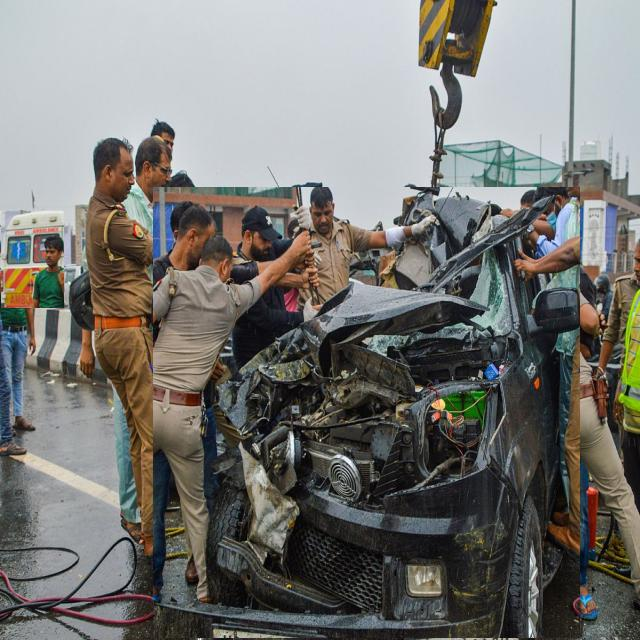accident: (153, 187, 579, 638)
emergency: (0, 210, 64, 308)
